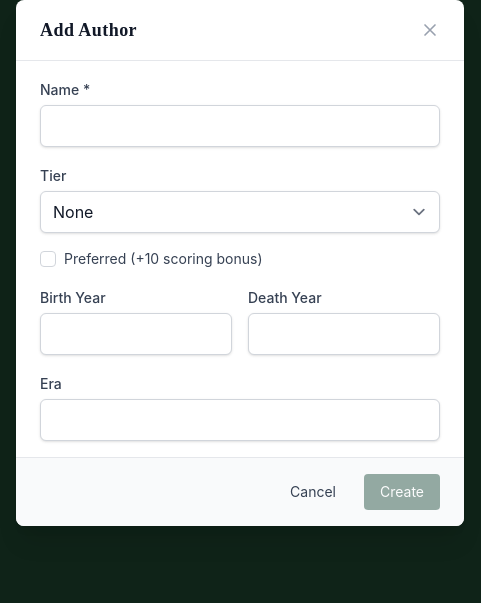
Test: EntityFormModal › form validation (#664) › author year validation › shows error when birth_year is after death_year
Type "Test Author" into the field labelled "Name *" at x=240, y=126, box [40,105,440,147]
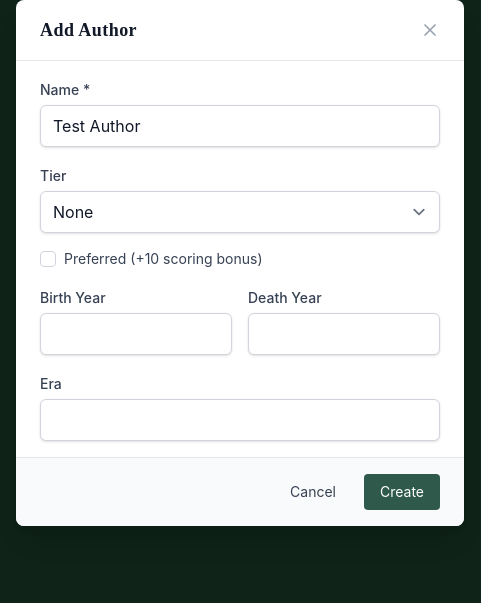
Type "1900" into the number field labelled "Birth Year" at x=136, y=334, box [40,313,232,355]
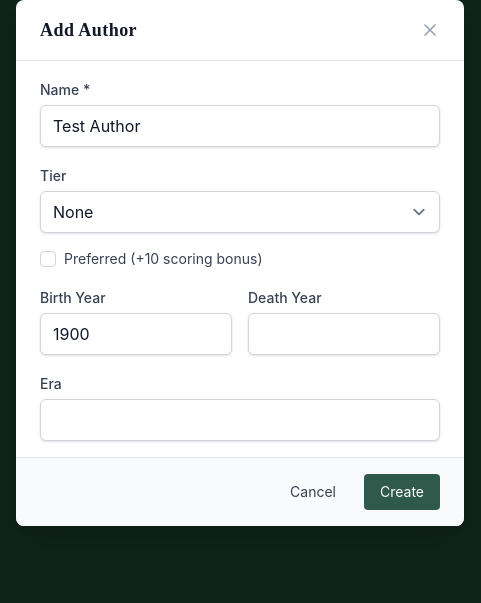
Type "1850" into the number field labelled "Death Year" at x=344, y=334, box [248,313,440,355]
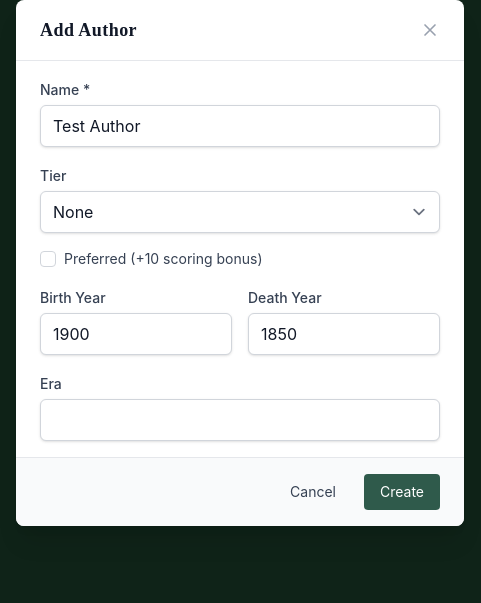
Click the button "Create" at x=402, y=492, box [364,474,440,510]
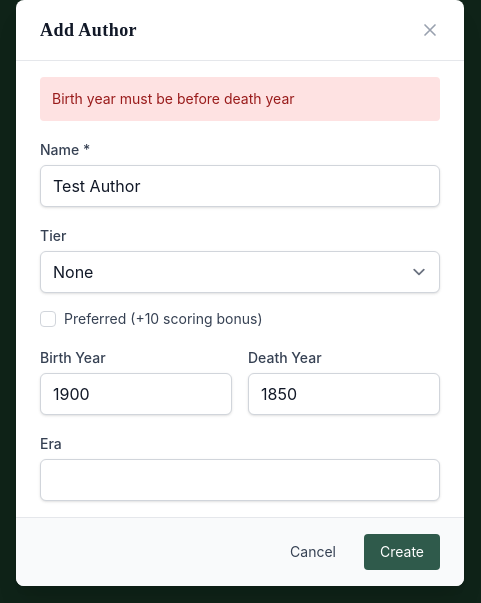
Expected: the text "Birth year must be before death year" is shown, [40,77,440,121]
Expected: the text with test id "validation-error" reads "Birth year must be before death year", [52,90,294,107]
